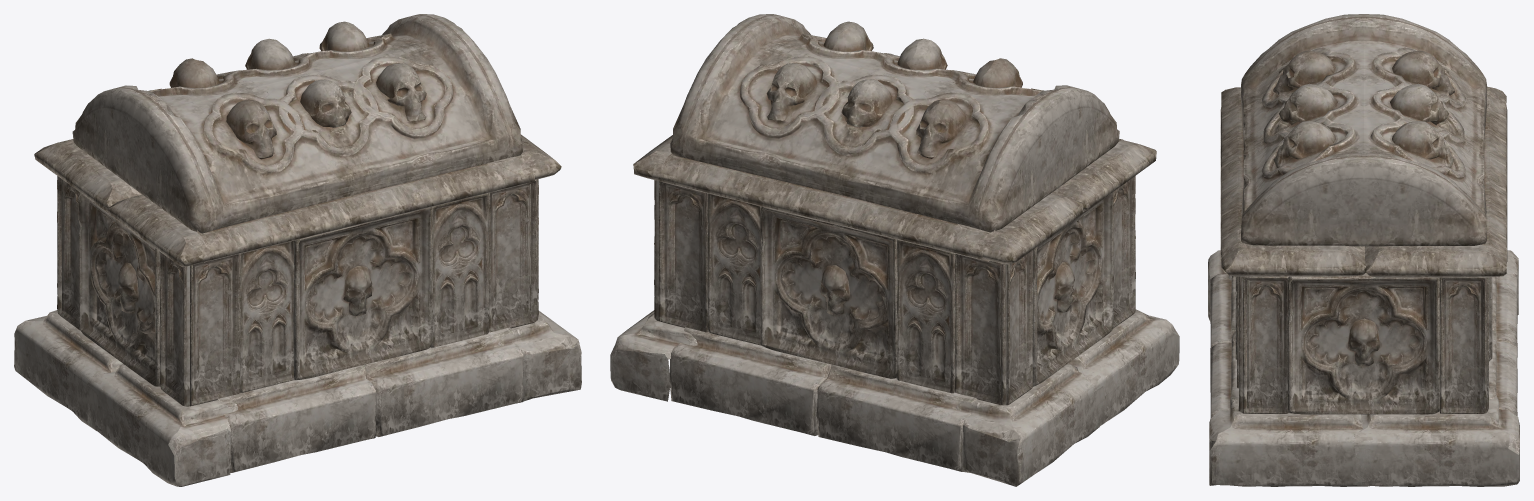
The picture shows the model from 3 angles, left to right: view 1: azimuth 30°, elevation 25°; view 2: azimuth 150°, elevation 25°; view 3: azimuth 270°, elevation 25°; orthographic projection. The views are drawn at different scales.
Parts seen in each view (by area): view 1: SM_Sarcophagus01_LOD0; view 2: SM_Sarcophagus01_LOD0; view 3: SM_Sarcophagus01_LOD0.
Part boxes in pixels (box(x1,y1,x2,y2)): SM_Sarcophagus01_LOD0: box(14, 14, 581, 486); SM_Sarcophagus01_LOD0: box(610, 14, 1179, 486); SM_Sarcophagus01_LOD0: box(1208, 14, 1519, 486).
Bounding box in the file's own units: 2.53 × 1.88 × 1.74.
Materials: 2 (2 with a texture image).
